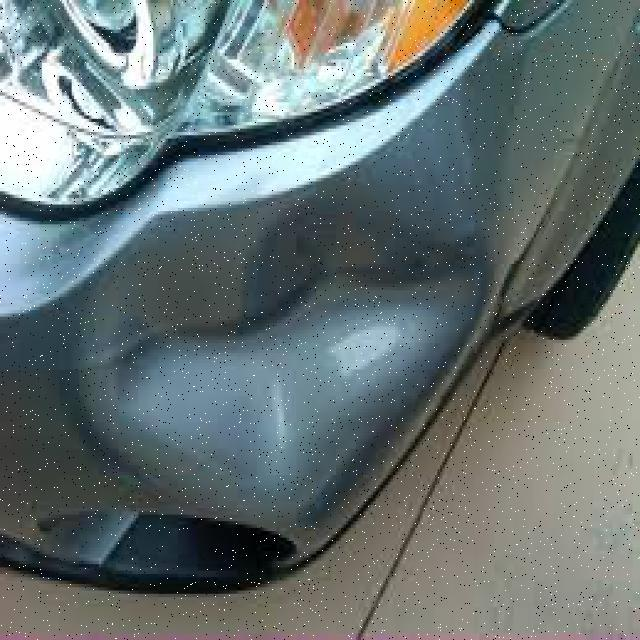front-bumper-dent: (0, 152, 506, 584)
